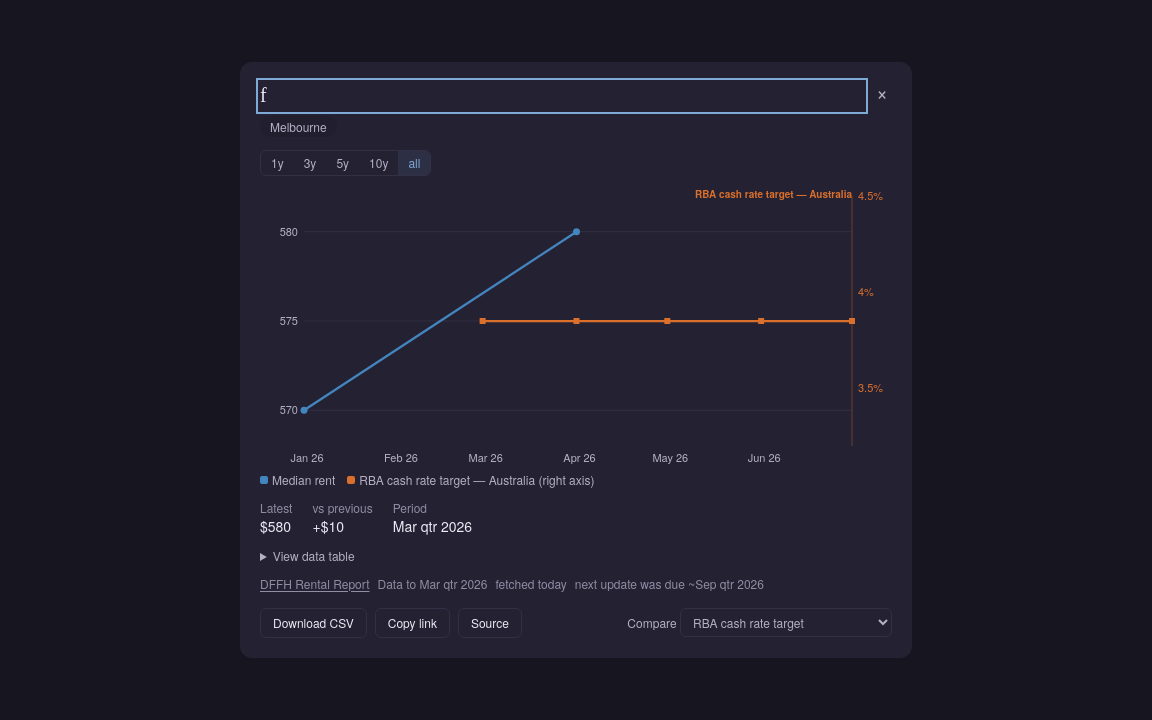
Scenario: a compare line from a different region gets suffixed with that region, everywhere its name appears
Click the heading "View data table": (314, 555) [273,547,355,564]
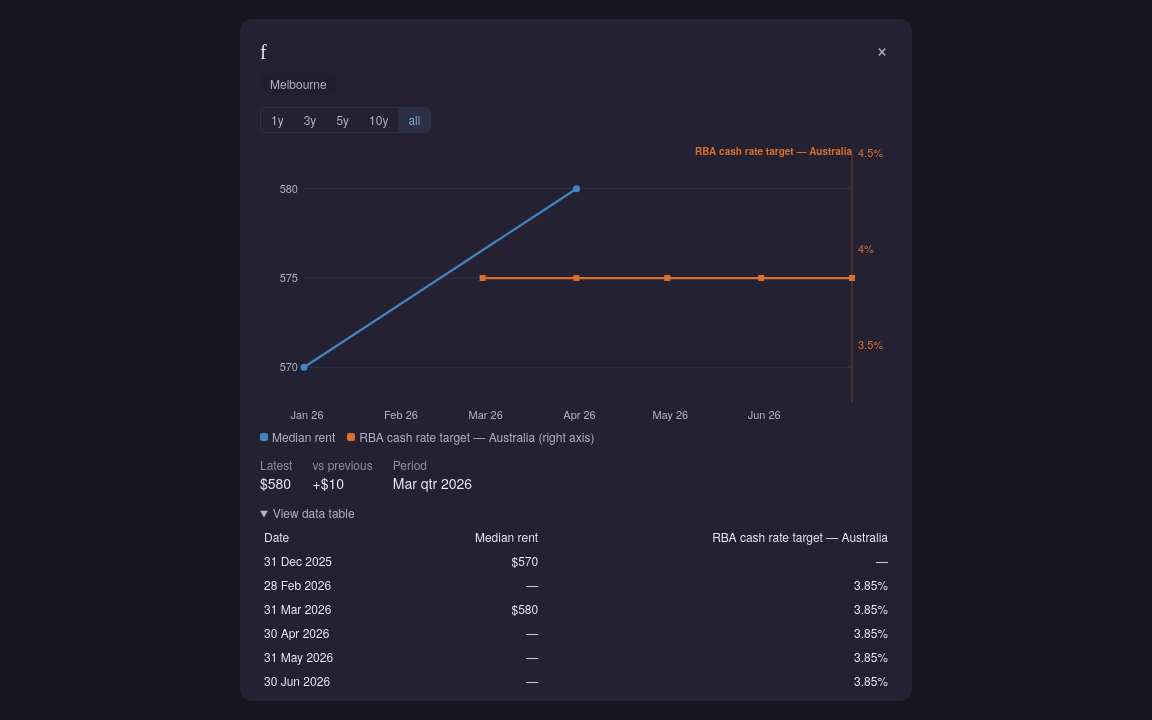
Check: the column heading "RBA cash rate target — Australia" is shown, box [542,524,892,548]
